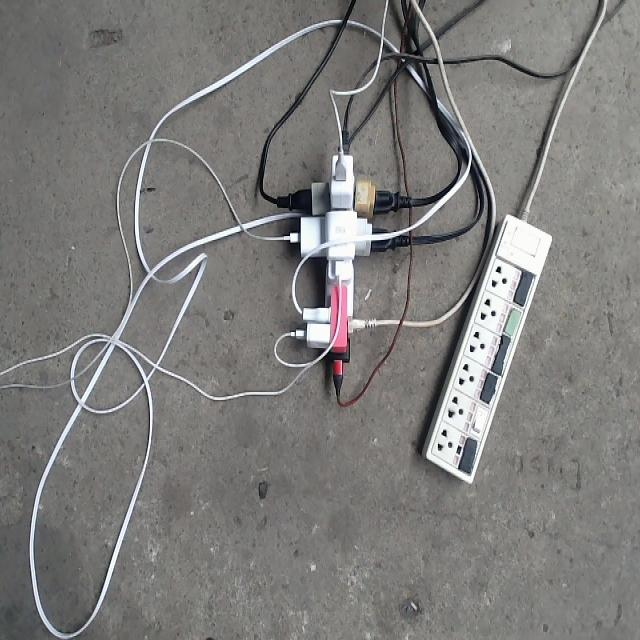-: (283, 147, 388, 380)
